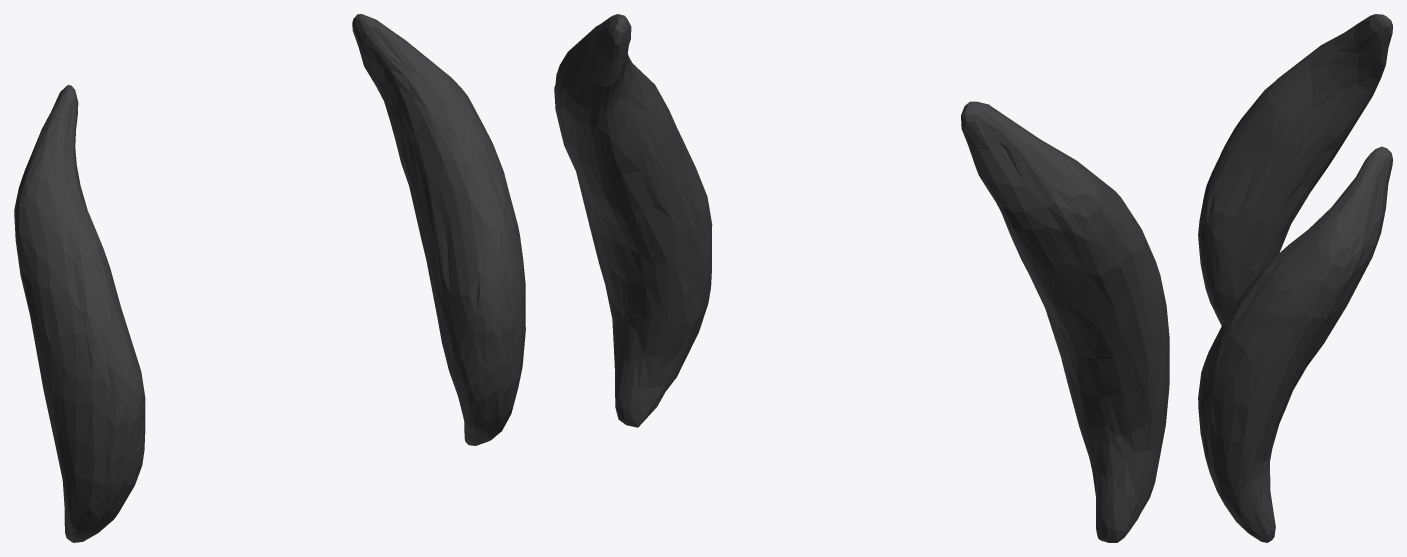
The model's file is m_quadriceps_rectus_femoris.glb.
The picture shows the model from 3 angles, left to right: view 1: azimuth 30°, elevation 25°; view 2: azimuth 150°, elevation 25°; view 3: azimuth 270°, elevation 25°; orthographic projection. The views are drawn at different scales.
Parts seen in each view (by area): view 1: m_quadriceps_rectus_femoris; view 2: m_quadriceps_rectus_femoris; view 3: m_quadriceps_rectus_femoris.
Part boxes in pixels (x1,y1,x2,y2): m_quadriceps_rectus_femoris: (14, 14, 525, 542); m_quadriceps_rectus_femoris: (554, 14, 1169, 542); m_quadriceps_rectus_femoris: (1198, 14, 1392, 542).
Bounding box in the file's own units: 0.00746 × 0.00597 × 0.00286.
1 material, 1 textured.
